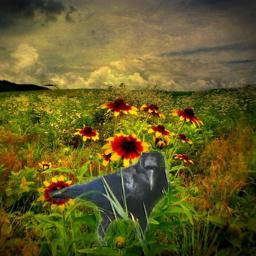Crow: (48, 150, 169, 246)
